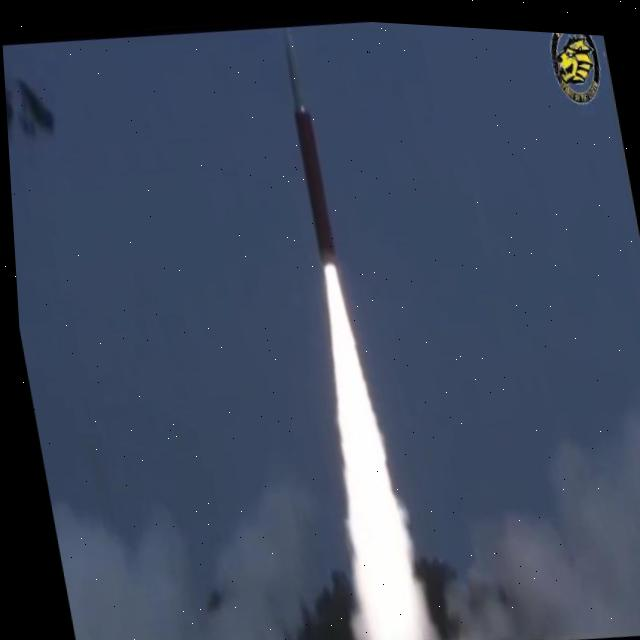missile: (269, 20, 341, 269)
